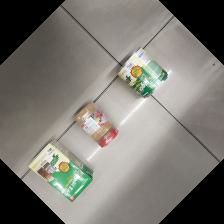Hao_hao: (71, 100, 120, 150)
NSPN_Hop: (28, 138, 93, 203)
NSPN_Lon: (116, 47, 169, 98)
